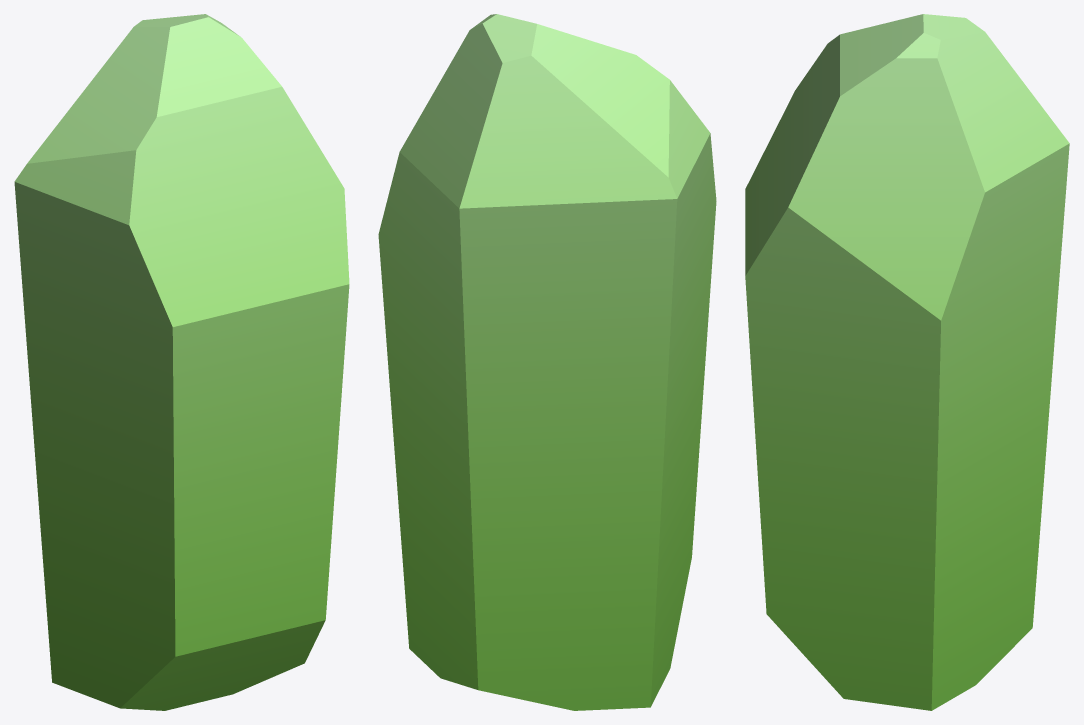
The model's file is Crystal_05.fbx.
3 renders of one model, left to right at view 1: azimuth 30°, elevation 25°; view 2: azimuth 150°, elevation 25°; view 3: azimuth 270°, elevation 25°, orthographic. The views are drawn at different scales.
Visible parts, largest first — view 1: Crystal_05; view 2: Crystal_05; view 3: Crystal_05.
Boxes of the visible parts, left/top/right/bottom form: Crystal_05: left=14, top=14, right=349, bottom=710; Crystal_05: left=378, top=14, right=716, bottom=710; Crystal_05: left=745, top=14, right=1069, bottom=710.
Bounding box in the file's own units: 0.8444 × 1.83 × 0.8078.
